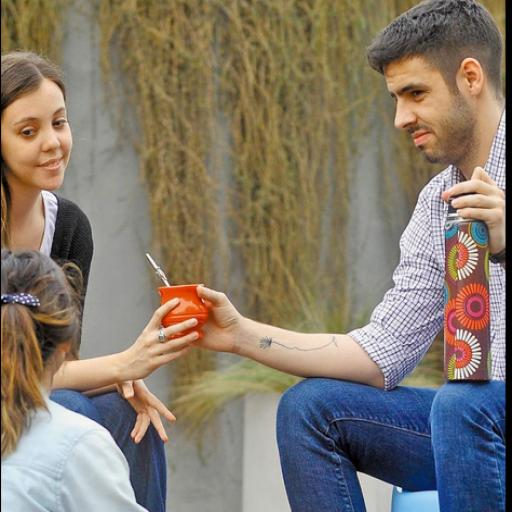mate: (146, 253, 208, 337)
termo: (445, 205, 488, 379)
